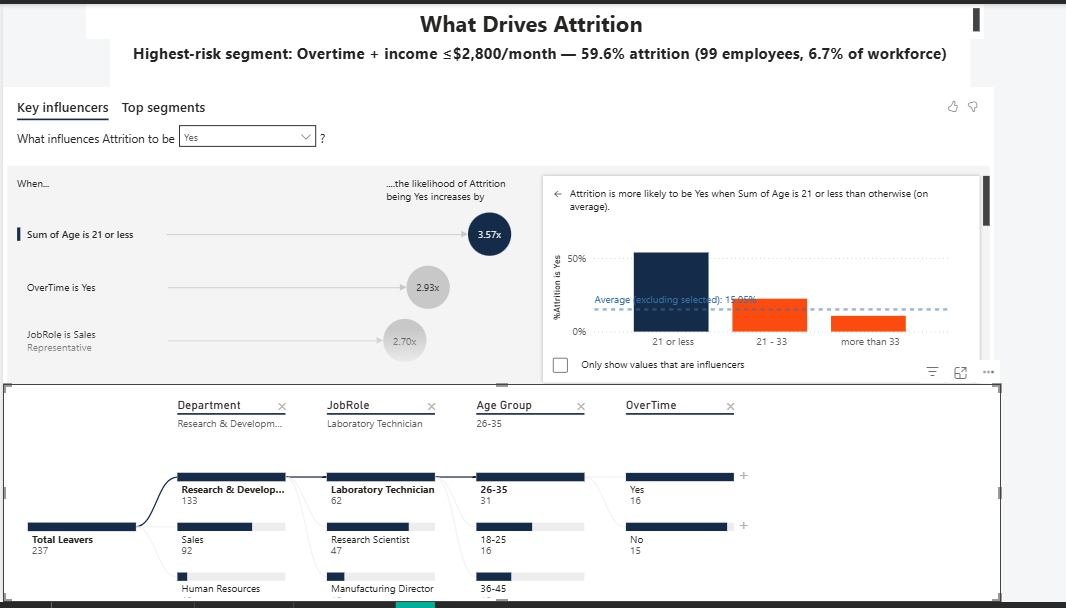

The page's visual inventory and layout, read from the dashboard file:
{"tool":"powerbi","page":{"name":"Key Drivers","canvas":[1280,720],"ordinal":2},"visuals":[{"type":"keyDriversVisual","fields":{"Target":["HRData.Attrition"],"ExplainBy":["HRData.OverTime","Sum(HRData.MonthlyIncome)","Sum(HRData.YearsAtCompany)","Sum(HRData.JobSatisfaction)","Sum(HRData.WorkLifeBalance)","Sum(HRData.DistanceFromHome)","Sum(HRData.NumCompaniesWorked)","Sum(HRData.StockOptionLevel)","HRData.Department","HRData.JobRole","Sum(HRData.Age)"]},"box":[0,100.3,1192.8,368.5],"z":0},{"type":"decompositionTreeVisual","fields":{"Analyze":["HRData.Total Leavers"],"ExplainBy":["HRData.Department","HRData.JobRole","HRData.Age Group","HRData.OverTime","HRData.MonthlyIncome"]},"box":[0,457.5,1201.6,262.5],"z":1000},{"type":"textbox","box":[99.5,0,1080.9,41.9],"z":2000},{"type":"textbox","box":[128.7,41.4,1035.8,58.9],"z":3000}]}

Visuals, with their boxes in screenshot pixels (x1, y1, x2, y2), scaled from the page's 1280x720 canvas onto the 1066x608 screenshot:
keyDriversVisual - HRData.Attrition x HRData.OverTime: <region>0, 85, 993, 396</region>
decompositionTreeVisual - HRData.Total Leavers x HRData.Department: <region>0, 386, 1001, 607</region>
textbox: <region>83, 0, 983, 35</region>
textbox: <region>107, 35, 970, 85</region>
